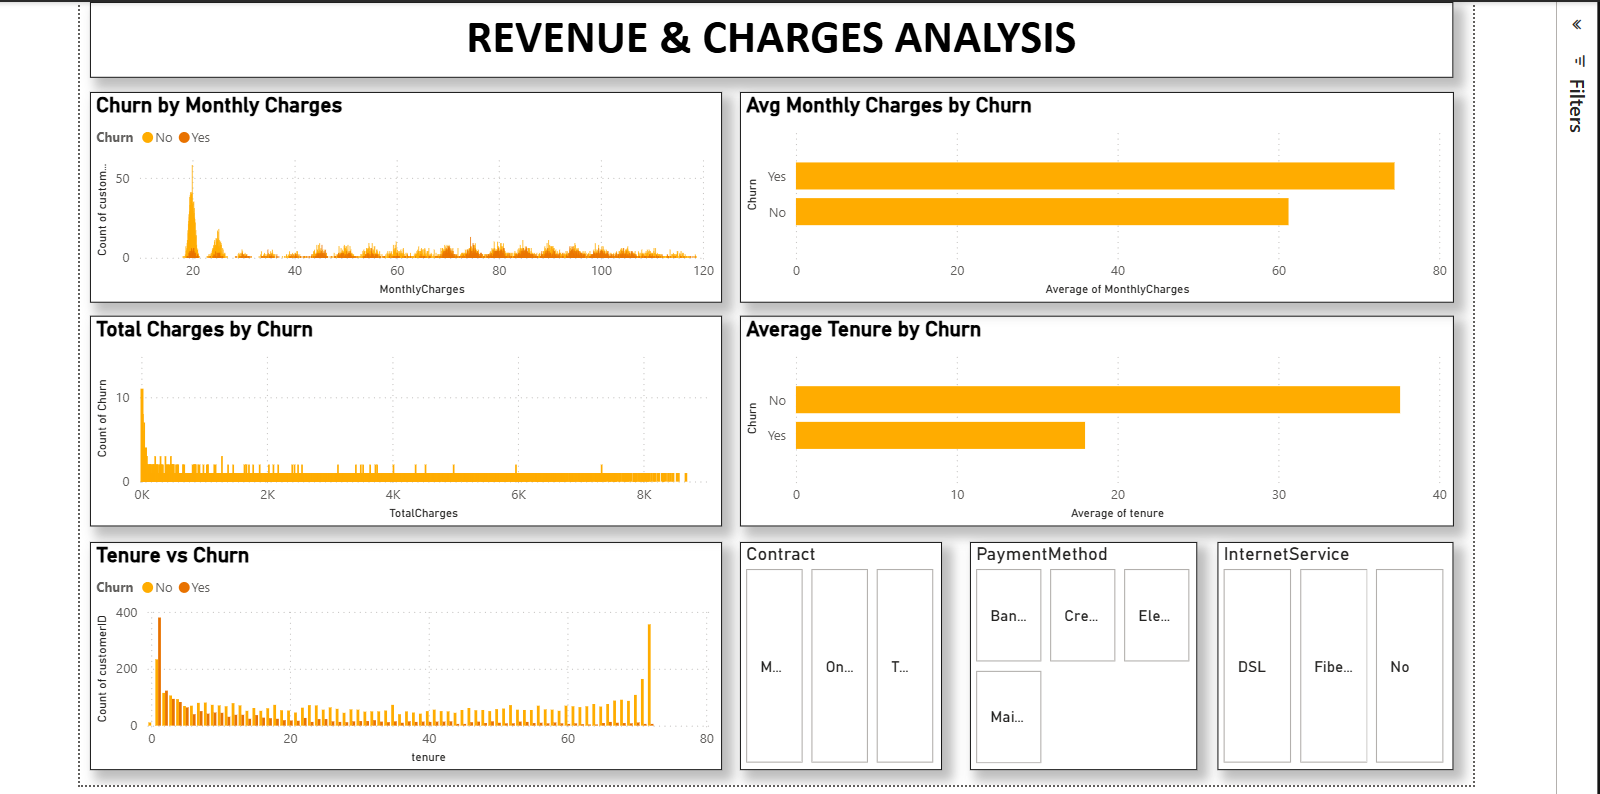

What the dashboard file says about the page in this screenshot:
{"tool":"powerbi","page":{"name":"Page 4","canvas":[1280,720],"ordinal":3},"visuals":[{"type":"textbox","box":[9.6,0,1252.8,70],"z":0},{"type":"clusteredColumnChart","title":"Churn by Monthly Charges","fields":{"Category":["Churn_CSV.MonthlyCharges"],"Y":["CountNonNull(Churn_CSV.customerID)"],"Series":["Churn_CSV.Churn"]},"box":[9.6,82.3,580.4,193.5],"z":1000},{"type":"clusteredColumnChart","title":"Tenure vs Churn","fields":{"Category":["Churn_CSV.tenure"],"Y":["CountNonNull(Churn_CSV.customerID)"],"Series":["Churn_CSV.Churn"]},"box":[9.6,496.7,580.4,209.9],"z":2000},{"type":"clusteredBarChart","title":"Average Tenure by Churn","fields":{"Category":["Churn_CSV.Churn"],"Y":["Avg(Churn_CSV.tenure)"]},"box":[606.5,288.2,655.9,193.5],"z":3000},{"type":"clusteredBarChart","title":"Avg Monthly Charges by Churn","fields":{"Category":["Churn_CSV.Churn"],"Y":["Avg(Churn_CSV.MonthlyCharges)"]},"box":[606.5,82.3,655.9,193.5],"z":4000},{"type":"clusteredColumnChart","title":"Total Charges by Churn","fields":{"Y":["CountNonNull(Churn_CSV.Churn)"],"Category":["Churn_CSV.TotalCharges"]},"box":[9.6,288.2,580.4,193.5],"z":5000},{"type":"advancedSlicerVisual","fields":{"Values":["Churn_CSV.Contract"]},"box":[606.5,496.7,185.2,209.9],"z":6000},{"type":"advancedSlicerVisual","fields":{"Values":["Churn_CSV.PaymentMethod"]},"box":[817.8,496.7,208.6,209.9],"z":7000},{"type":"advancedSlicerVisual","fields":{"Values":["Churn_CSV.InternetService"]},"box":[1045.6,496.7,216.8,209.9],"z":8000}]}

Visuals, with their boxes in screenshot pixels (x1, y1, x2, y2):
textbox: bbox=[85, 0, 1451, 76]
"Churn by Monthly Charges" clusteredColumnChart: bbox=[85, 90, 718, 301]
"Tenure vs Churn" clusteredColumnChart: bbox=[85, 541, 718, 770]
"Average Tenure by Churn" clusteredBarChart: bbox=[736, 314, 1451, 525]
"Avg Monthly Charges by Churn" clusteredBarChart: bbox=[736, 90, 1451, 301]
"Total Charges by Churn" clusteredColumnChart: bbox=[85, 314, 718, 525]
advancedSlicerVisual - Churn_CSV.Contract: bbox=[736, 541, 938, 770]
advancedSlicerVisual - Churn_CSV.PaymentMethod: bbox=[966, 541, 1194, 770]
advancedSlicerVisual - Churn_CSV.InternetService: bbox=[1215, 541, 1451, 770]
